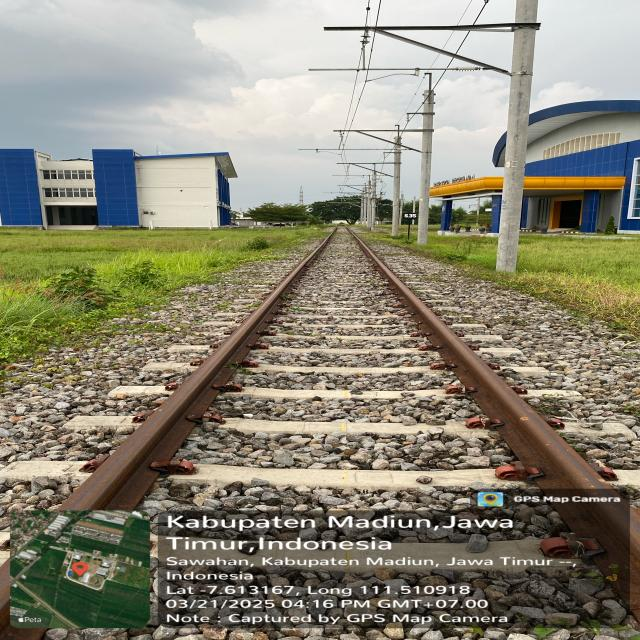rail-detection: (351, 233, 640, 602), (61, 236, 332, 510)
